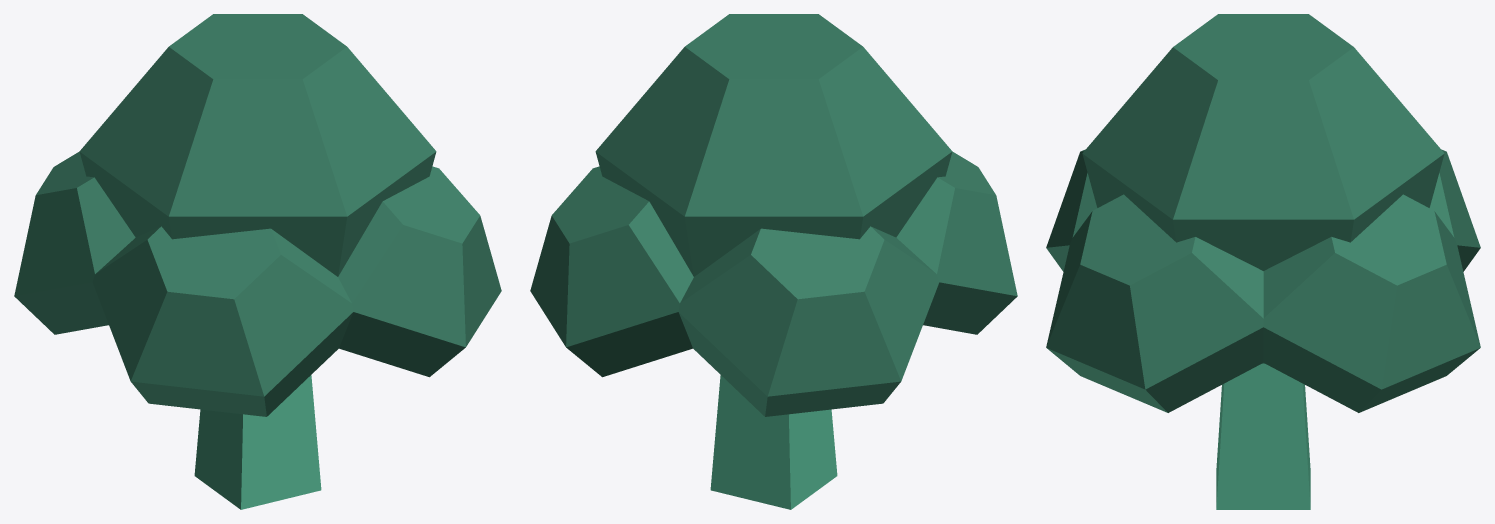
The model's file is broccoli.fbx.
3 views of the same model, side by side, from view 1: azimuth 30°, elevation 25°; view 2: azimuth 150°, elevation 25°; view 3: azimuth 270°, elevation 25° (orthographic).
Visible parts, largest first — view 1: broccoli; view 2: broccoli; view 3: broccoli.
Boxes of the visible parts, x1,y1,x2,y2 form: broccoli: (14,14,501,509); broccoli: (530,14,1017,509); broccoli: (1046,14,1480,509).
Size of the model in its own units: 3.75 by 4.22 by 3.75.
